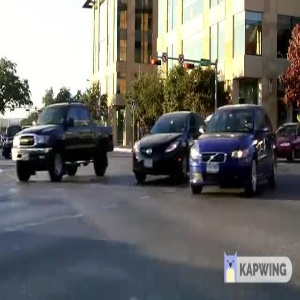car: (192, 101, 281, 188), (124, 106, 196, 190)
truck: (11, 94, 119, 186)
